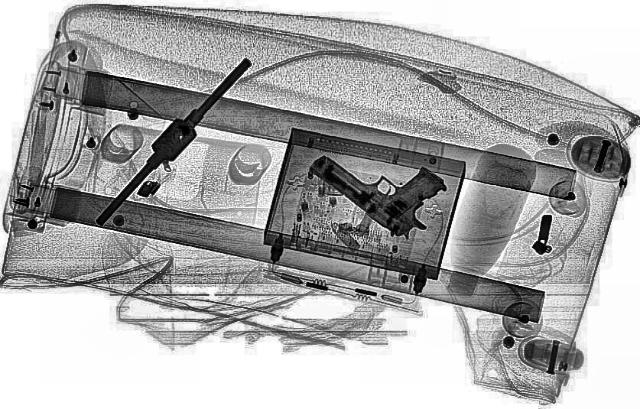Gun: (297, 130, 478, 242)
